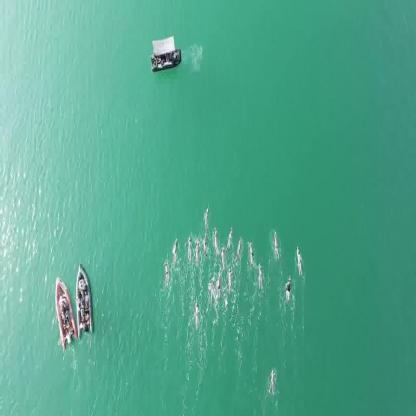Boat: (54, 276, 76, 344), (74, 265, 96, 332)
